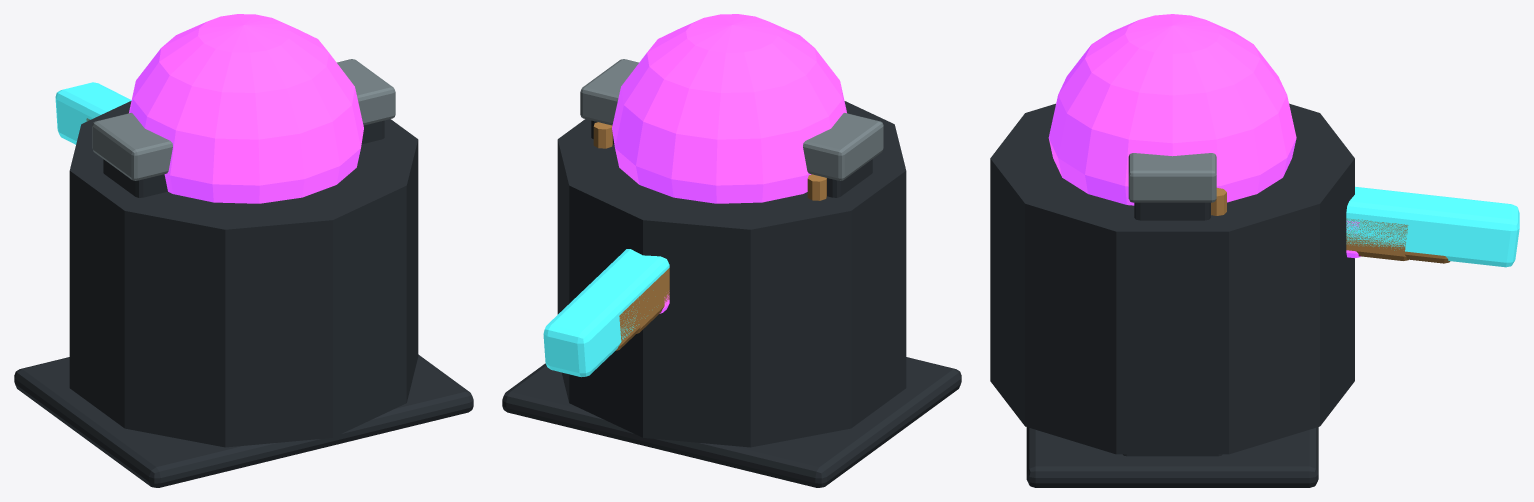
The model's file is cinder-prototype-units.glb.
The picture shows the model from 3 angles, left to right: view 1: azimuth 30°, elevation 25°; view 2: azimuth 150°, elevation 25°; view 3: azimuth 270°, elevation 25°; orthographic projection. The views are drawn at different scales.
Parts seen in each view (by area): view 1: Unit_BlackComet body, Unit_BlackComet head, Unit_BlackComet shadow plate, Tower_Wall_End_Negative crown, Tower_ColdIronLongshot barrel, Tower_Wall_End_Positive crown, Tower_Wall_End_Negative post; view 2: Unit_BlackComet body, Unit_BlackComet head, Unit_BlackComet shadow plate, Tower_ColdIronLongshot barrel, Tower_Wall_End_Negative crown, Tower_Wall_End_Positive crown, Tower_Sunspitter barrel, Tower_Wall_End_Negative post; view 3: Unit_BlackComet body, Unit_BlackComet head, Unit_BlackComet shadow plate, Tower_ColdIronLongshot barrel, Tower_Wall_End_Positive crown, Tower_Peacemaker barrel, Tower_Wall_End_Positive post.
Part boxes in pixels (x1=…): Unit_BlackComet body: x1=69, y1=101, x2=418, y2=447; Unit_BlackComet head: x1=129, y1=14, x2=363, y2=203; Unit_BlackComet shadow plate: x1=14, y1=354, x2=473, y2=487; Tower_Wall_End_Negative crown: x1=92, y1=113, x2=172, y2=180; Tower_ColdIronLongshot barrel: x1=55, y1=82, x2=131, y2=144; Tower_Wall_End_Positive crown: x1=337, y1=59, x2=395, y2=125; Tower_Wall_End_Negative post: x1=103, y1=159, x2=167, y2=197; Unit_BlackComet body: x1=557, y1=101, x2=906, y2=447; Unit_BlackComet head: x1=612, y1=14, x2=846, y2=203; Unit_BlackComet shadow plate: x1=502, y1=357, x2=961, y2=487; Tower_ColdIronLongshot barrel: x1=543, y1=249, x2=669, y2=377; Tower_Wall_End_Negative crown: x1=803, y1=113, x2=883, y2=180; Tower_Wall_End_Positive crown: x1=580, y1=59, x2=638, y2=125; Tower_Sunspitter barrel: x1=615, y1=268, x2=669, y2=350; Tower_Wall_End_Negative post: x1=827, y1=159, x2=872, y2=197; Unit_BlackComet body: x1=990, y1=103, x2=1354, y2=454; Unit_BlackComet head: x1=1048, y1=14, x2=1296, y2=205; Unit_BlackComet shadow plate: x1=1026, y1=427, x2=1318, y2=487; Tower_ColdIronLongshot barrel: x1=1346, y1=186, x2=1519, y2=267; Tower_Wall_End_Positive crown: x1=1128, y1=153, x2=1216, y2=202; Tower_Peacemaker barrel: x1=1346, y1=218, x2=1408, y2=260; Tower_Wall_End_Positive post: x1=1134, y1=202, x2=1210, y2=220.
Size of the model in its own units: 1.3 by 1.44 by 1.8.
